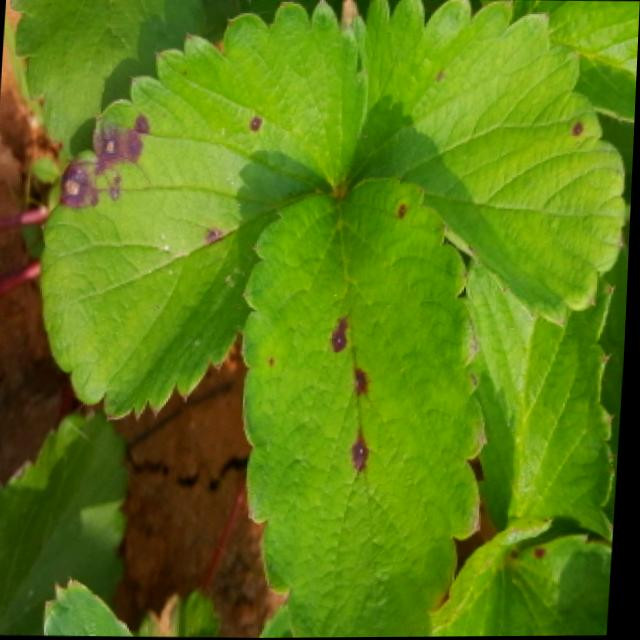Leaf Spot: (40, 0, 368, 422), (242, 177, 490, 638), (354, 0, 628, 331), (440, 517, 617, 637)
